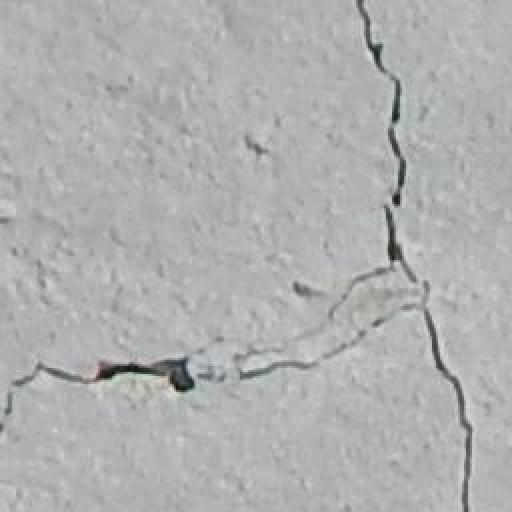spalling: (0, 247, 442, 443), (338, 0, 491, 511)
